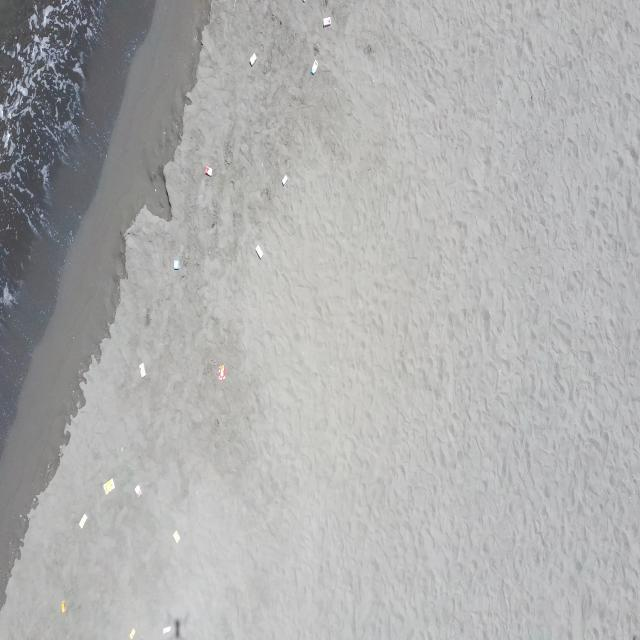retort-pouch: (102, 477, 115, 497), (309, 57, 320, 77), (254, 242, 264, 262), (78, 512, 88, 531), (218, 362, 227, 382), (248, 50, 258, 68), (322, 13, 332, 29), (204, 163, 213, 180), (172, 528, 181, 545), (139, 360, 147, 379), (134, 482, 142, 499), (162, 623, 172, 636), (128, 626, 136, 640), (60, 600, 68, 614), (282, 174, 289, 189), (173, 258, 181, 270)
